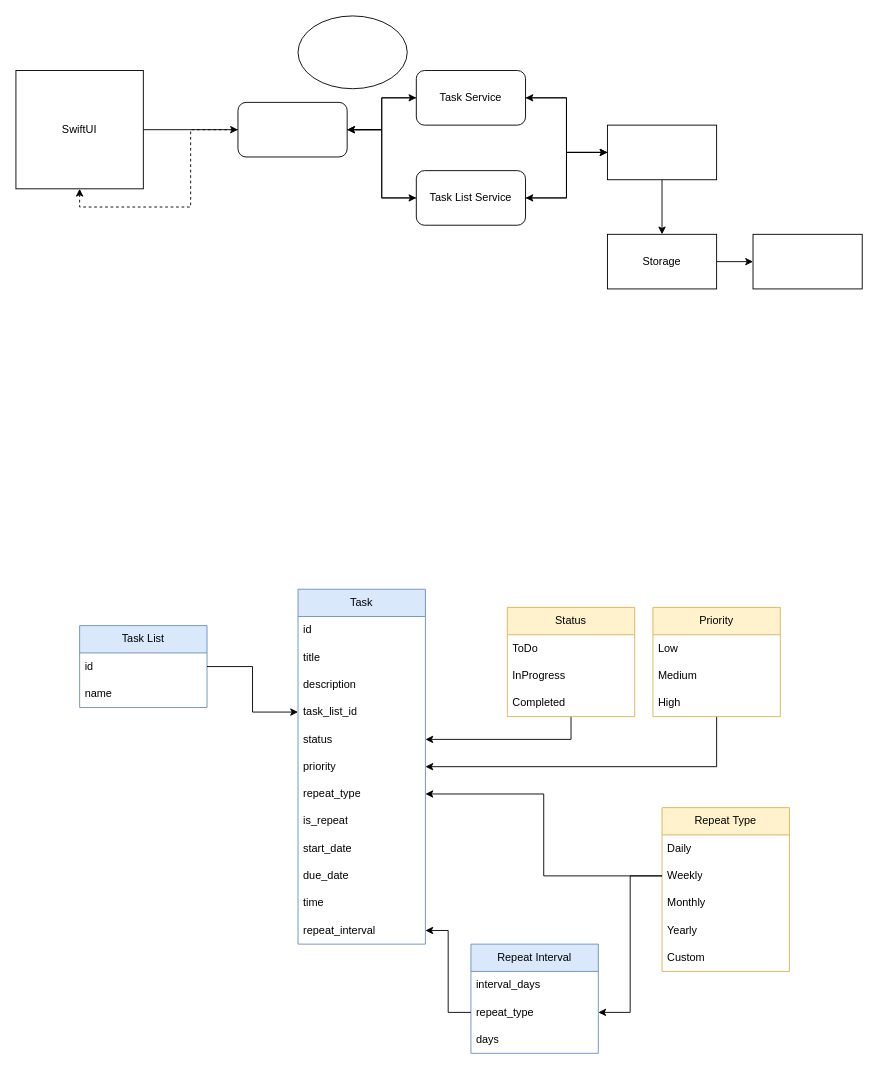
This 878x1069 diagram has some shape labels left out. The shapes that lost their labels are listed below. From the top down, each one's centre as x and y in pixels, then its label:
the point at 352,52: DI
the point at 292,129: ViewModel
the point at 662,152: Repository Service
the point at 807,261: Database
